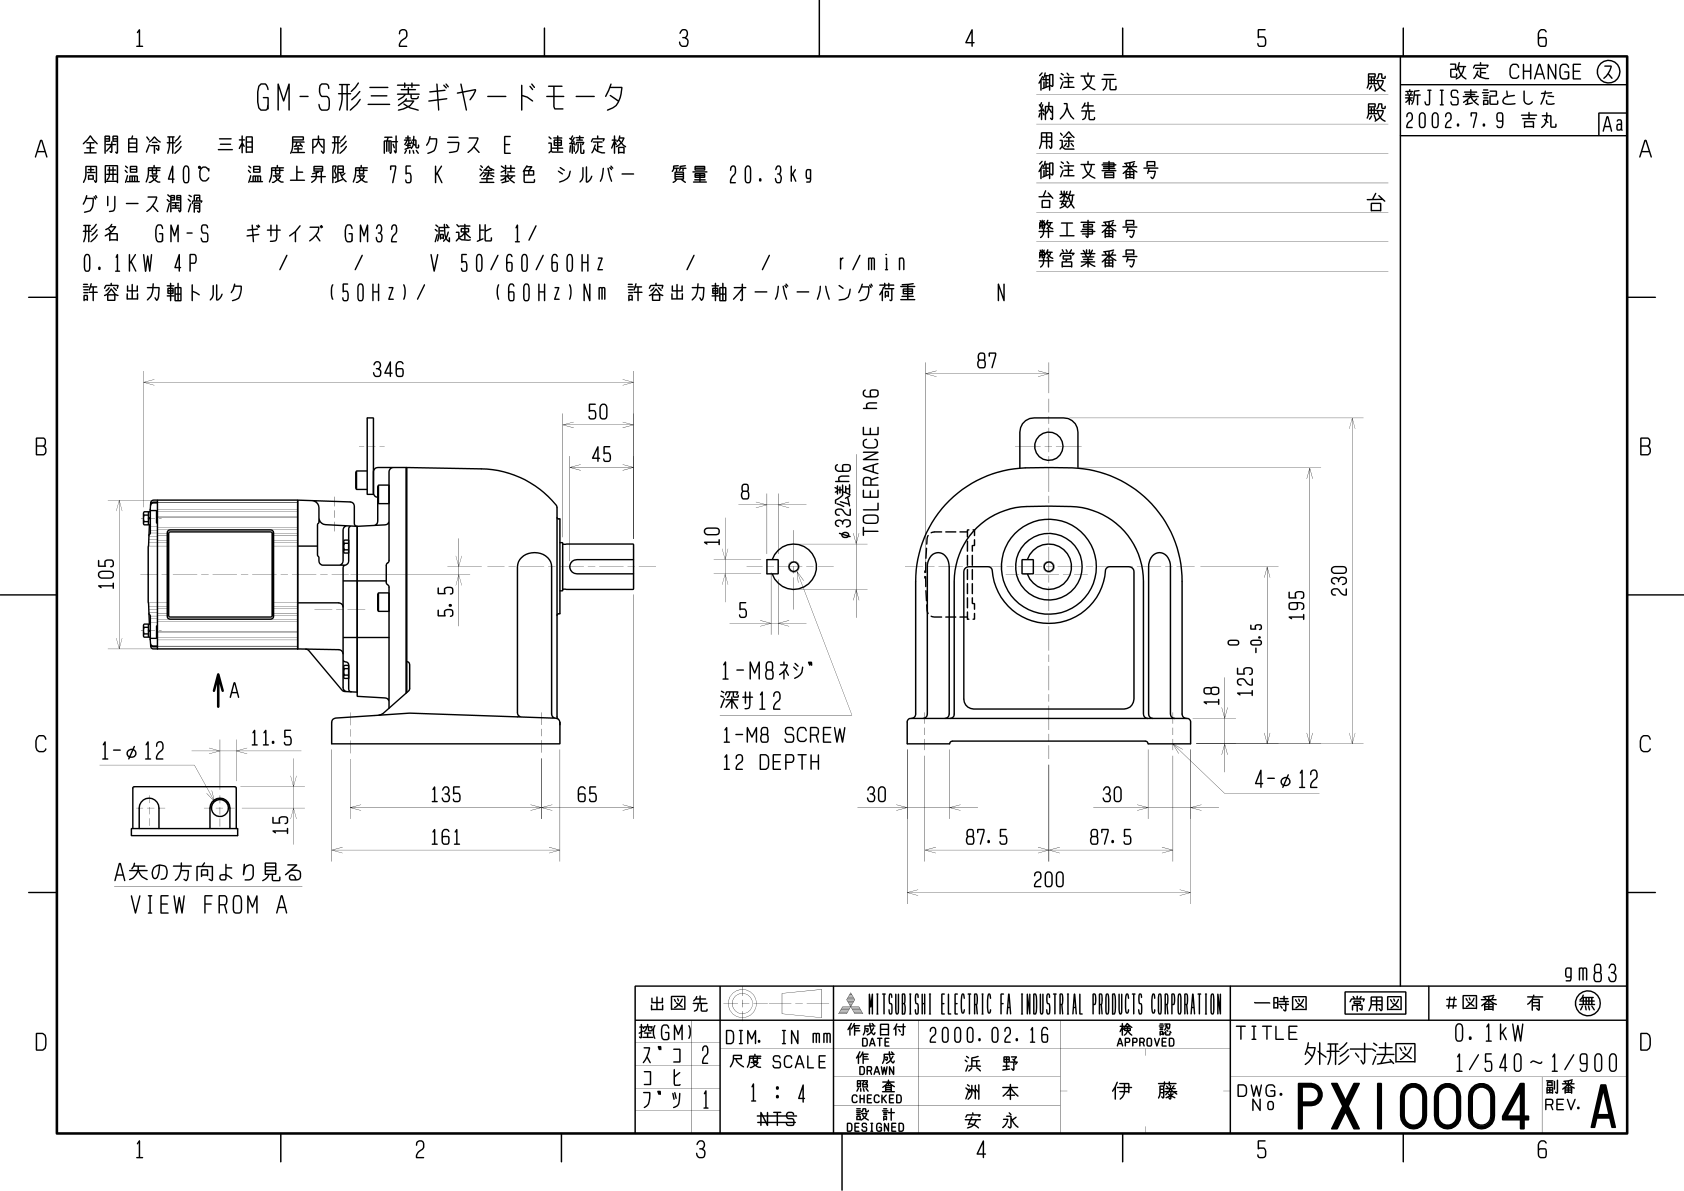GM_S_屋内＿三相_脚: (15, 13, 1684, 1191)
